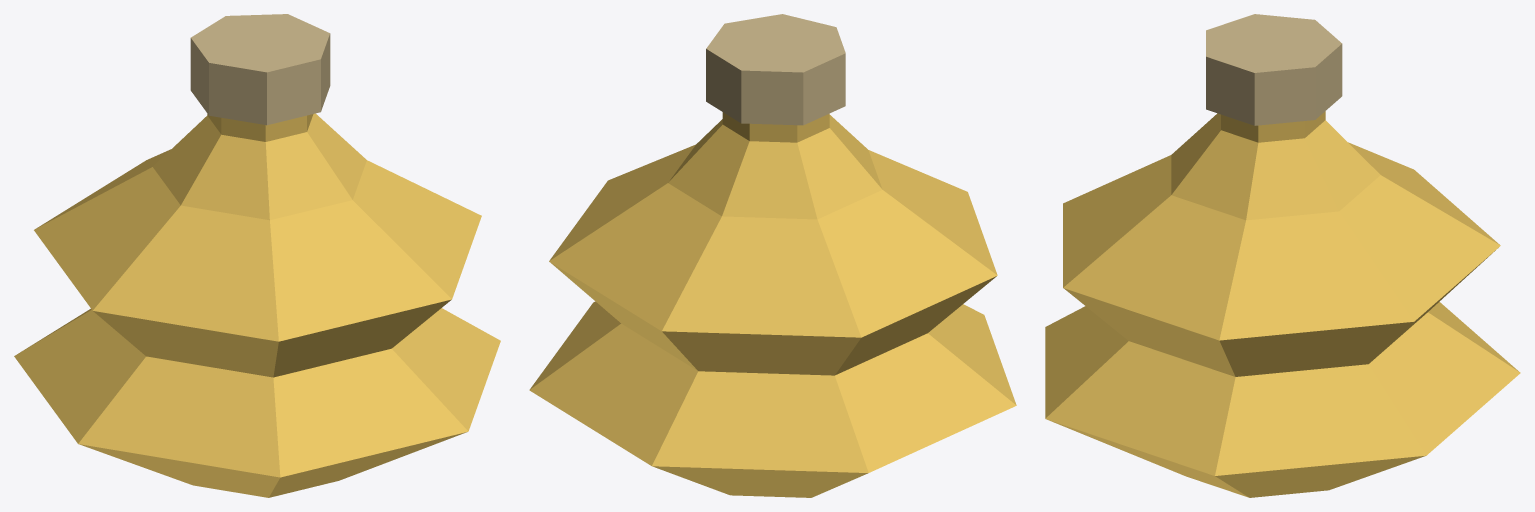
File: ShortPotion_1.fbx
3 renders of one model, left to right at view 1: azimuth 30°, elevation 25°; view 2: azimuth 150°, elevation 25°; view 3: azimuth 270°, elevation 25°, orthographic.
Parts seen in each view (by area): view 1: ShortPotion_1; view 2: ShortPotion_1; view 3: ShortPotion_1.
Boxes of the visible parts, x1,y1,x2,y2 form: ShortPotion_1: (14, 14, 500, 497); ShortPotion_1: (529, 14, 1016, 497); ShortPotion_1: (1045, 14, 1520, 497).
Size of the model in its own units: 13.59 by 12.78 by 13.25.
